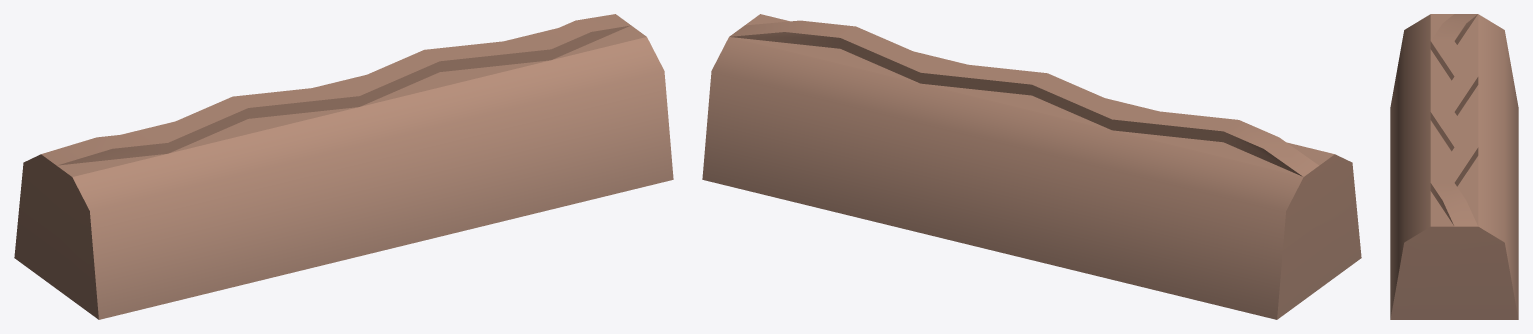
File: candy-bar.glb
3 renders of one model, left to right at view 1: azimuth 30°, elevation 25°; view 2: azimuth 150°, elevation 25°; view 3: azimuth 270°, elevation 25°, orthographic. The views are drawn at different scales.
Visible parts, largest first — view 1: candy-bar; view 2: candy-bar; view 3: candy-bar.
Part boxes in pixels (left/top/right/bottom): candy-bar: left=14, top=14, right=673, bottom=319; candy-bar: left=702, top=14, right=1361, bottom=319; candy-bar: left=1390, top=14, right=1518, bottom=319.
Bounding box in the file's own units: 0.2924 × 0.0653 × 0.0745.
